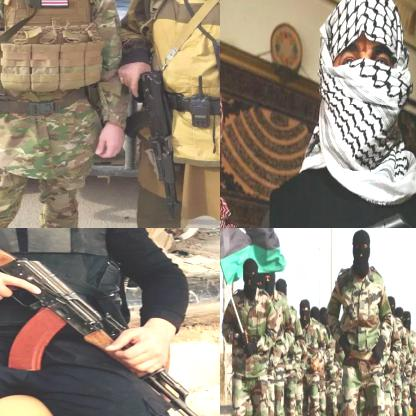rifle: (0, 228, 219, 415), (220, 154, 415, 227), (120, 64, 191, 222)
